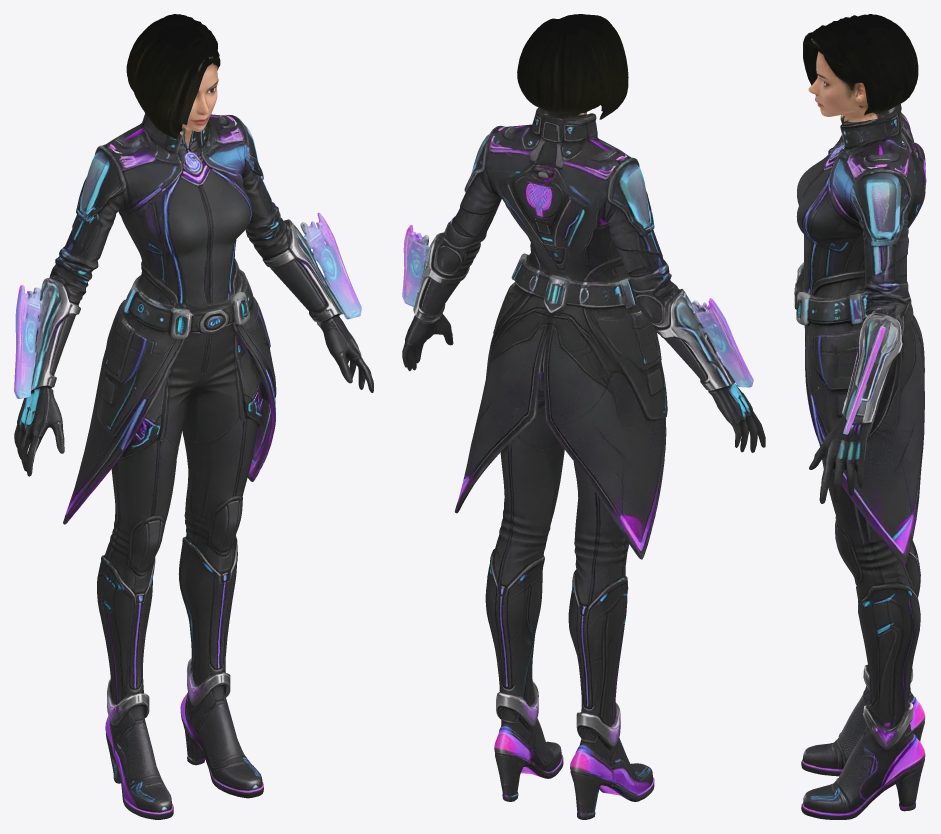
File: eoncity_holo_interface_landmark.b6c0ba11b167.glb
3 views of the same model, side by side, from view 1: azimuth 30°, elevation 25°; view 2: azimuth 150°, elevation 25°; view 3: azimuth 270°, elevation 25° (orthographic).
Bounding box in the file's own units: 0.8989 × 1.9 × 0.2946.
1 material, 1 textured.
